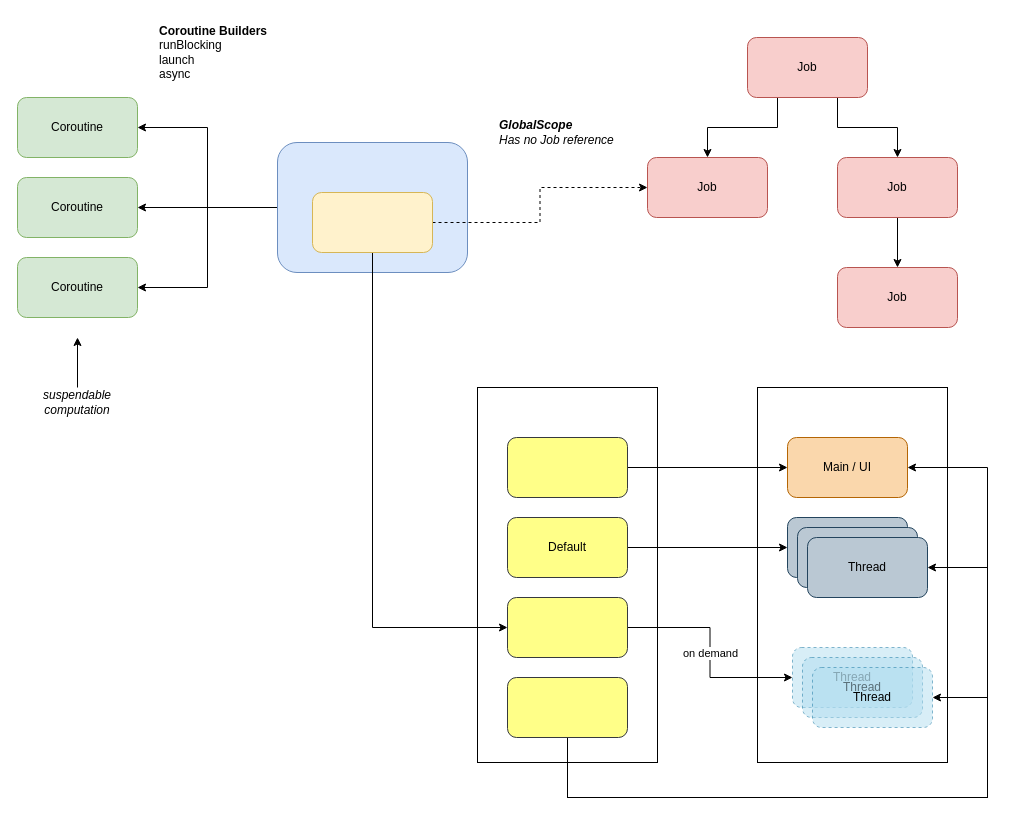
Some shapes in this 1013 by 823 pixel diagram are drawn without their labels. Here are the shapes that lost their labels. From the top down, the box of each, then its label:
(276, 142, 468, 272): CoroutineScope
(312, 192, 432, 252): CoroutineContext
(506, 436, 628, 498): Main
(476, 386, 658, 762): Dispatcher
(756, 386, 948, 762): Thread Pool
(506, 596, 628, 658): IO
(506, 676, 628, 738): Unconfined
